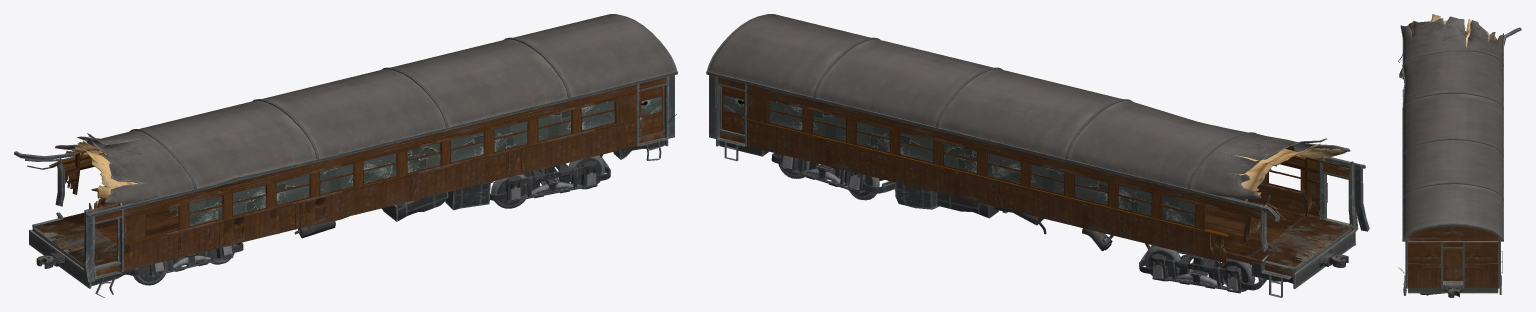
Rendered from TrainBroken_Center.fbx.
3 renders of one model, left to right at view 1: azimuth 30°, elevation 25°; view 2: azimuth 150°, elevation 25°; view 3: azimuth 270°, elevation 25°, orthographic. The views are drawn at different scales.
Parts seen in each view (by area): view 1: SM_d_114_BrokenLocomotive_02a; view 2: SM_d_114_BrokenLocomotive_02a; view 3: SM_d_114_BrokenLocomotive_02a.
Boxes of the visible parts, x1,y1,x2,y2 form: SM_d_114_BrokenLocomotive_02a: (14, 14, 677, 297); SM_d_114_BrokenLocomotive_02a: (706, 14, 1369, 297); SM_d_114_BrokenLocomotive_02a: (1398, 14, 1521, 297).
Size of the model in its own units: 2831 by 660 by 665.
